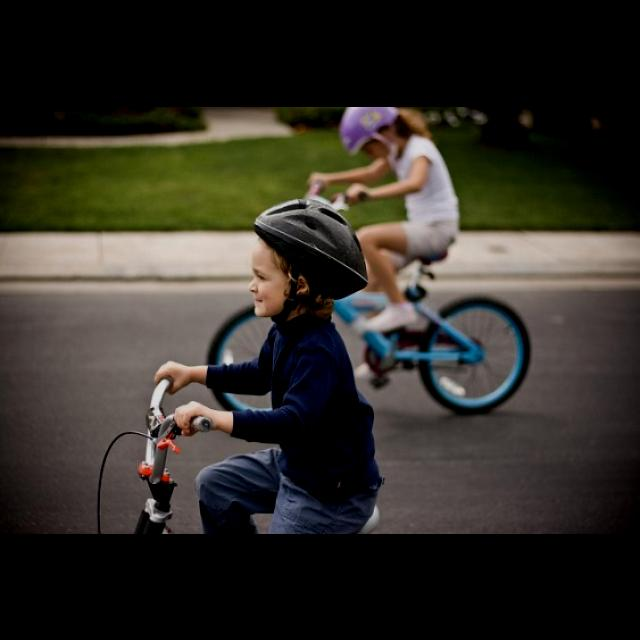With Helmet: (240, 184, 372, 322)
